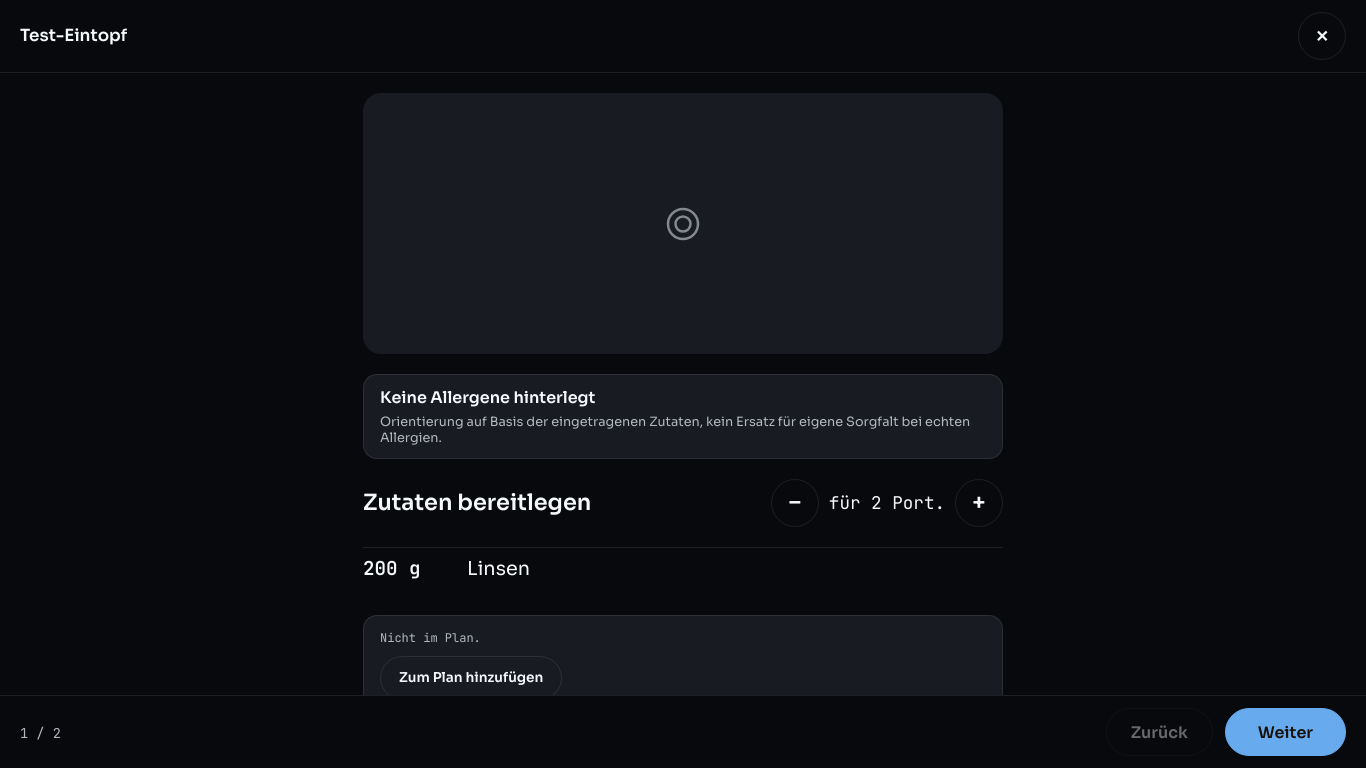
it: Kochmodus — Rezept liegt nicht im Plan › Abbrechen im PlanPicker schreibt nichts und bringt den Button zurück
Click the button "Zum Plan hinzufügen": (471, 678) 380,656 -> 562,700
(page scrolled)
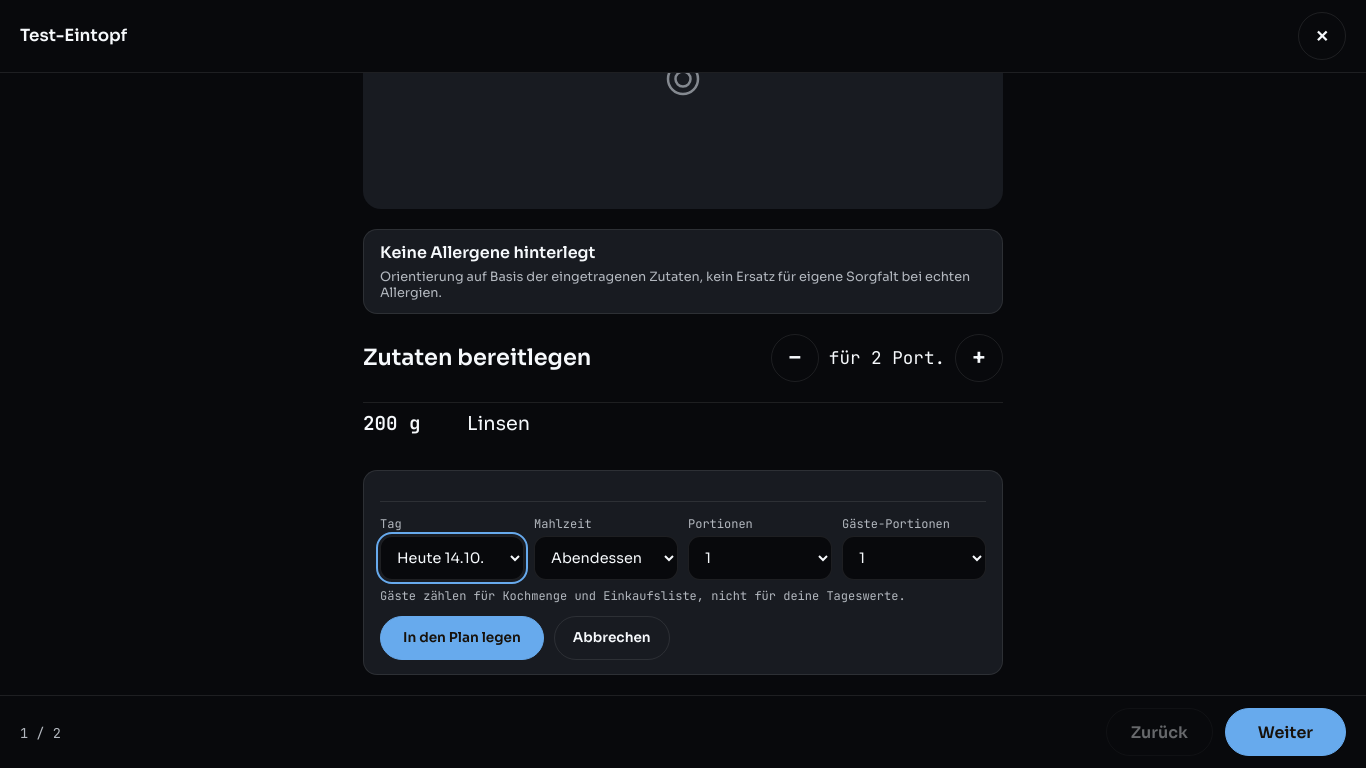
Click the button "Abbrechen": (612, 638) 554,616 -> 670,660
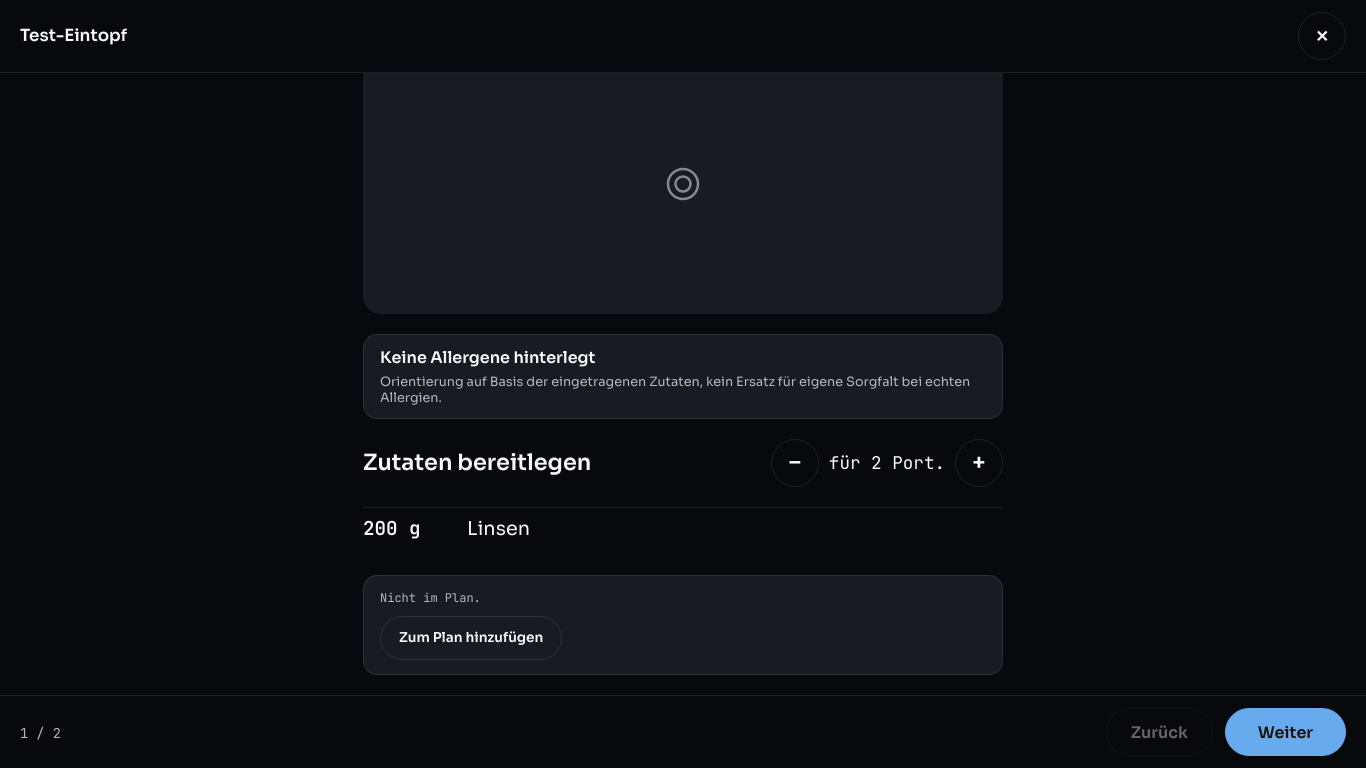
Check: the button "Zum Plan hinzufügen" is shown, box 380,616 -> 562,660
